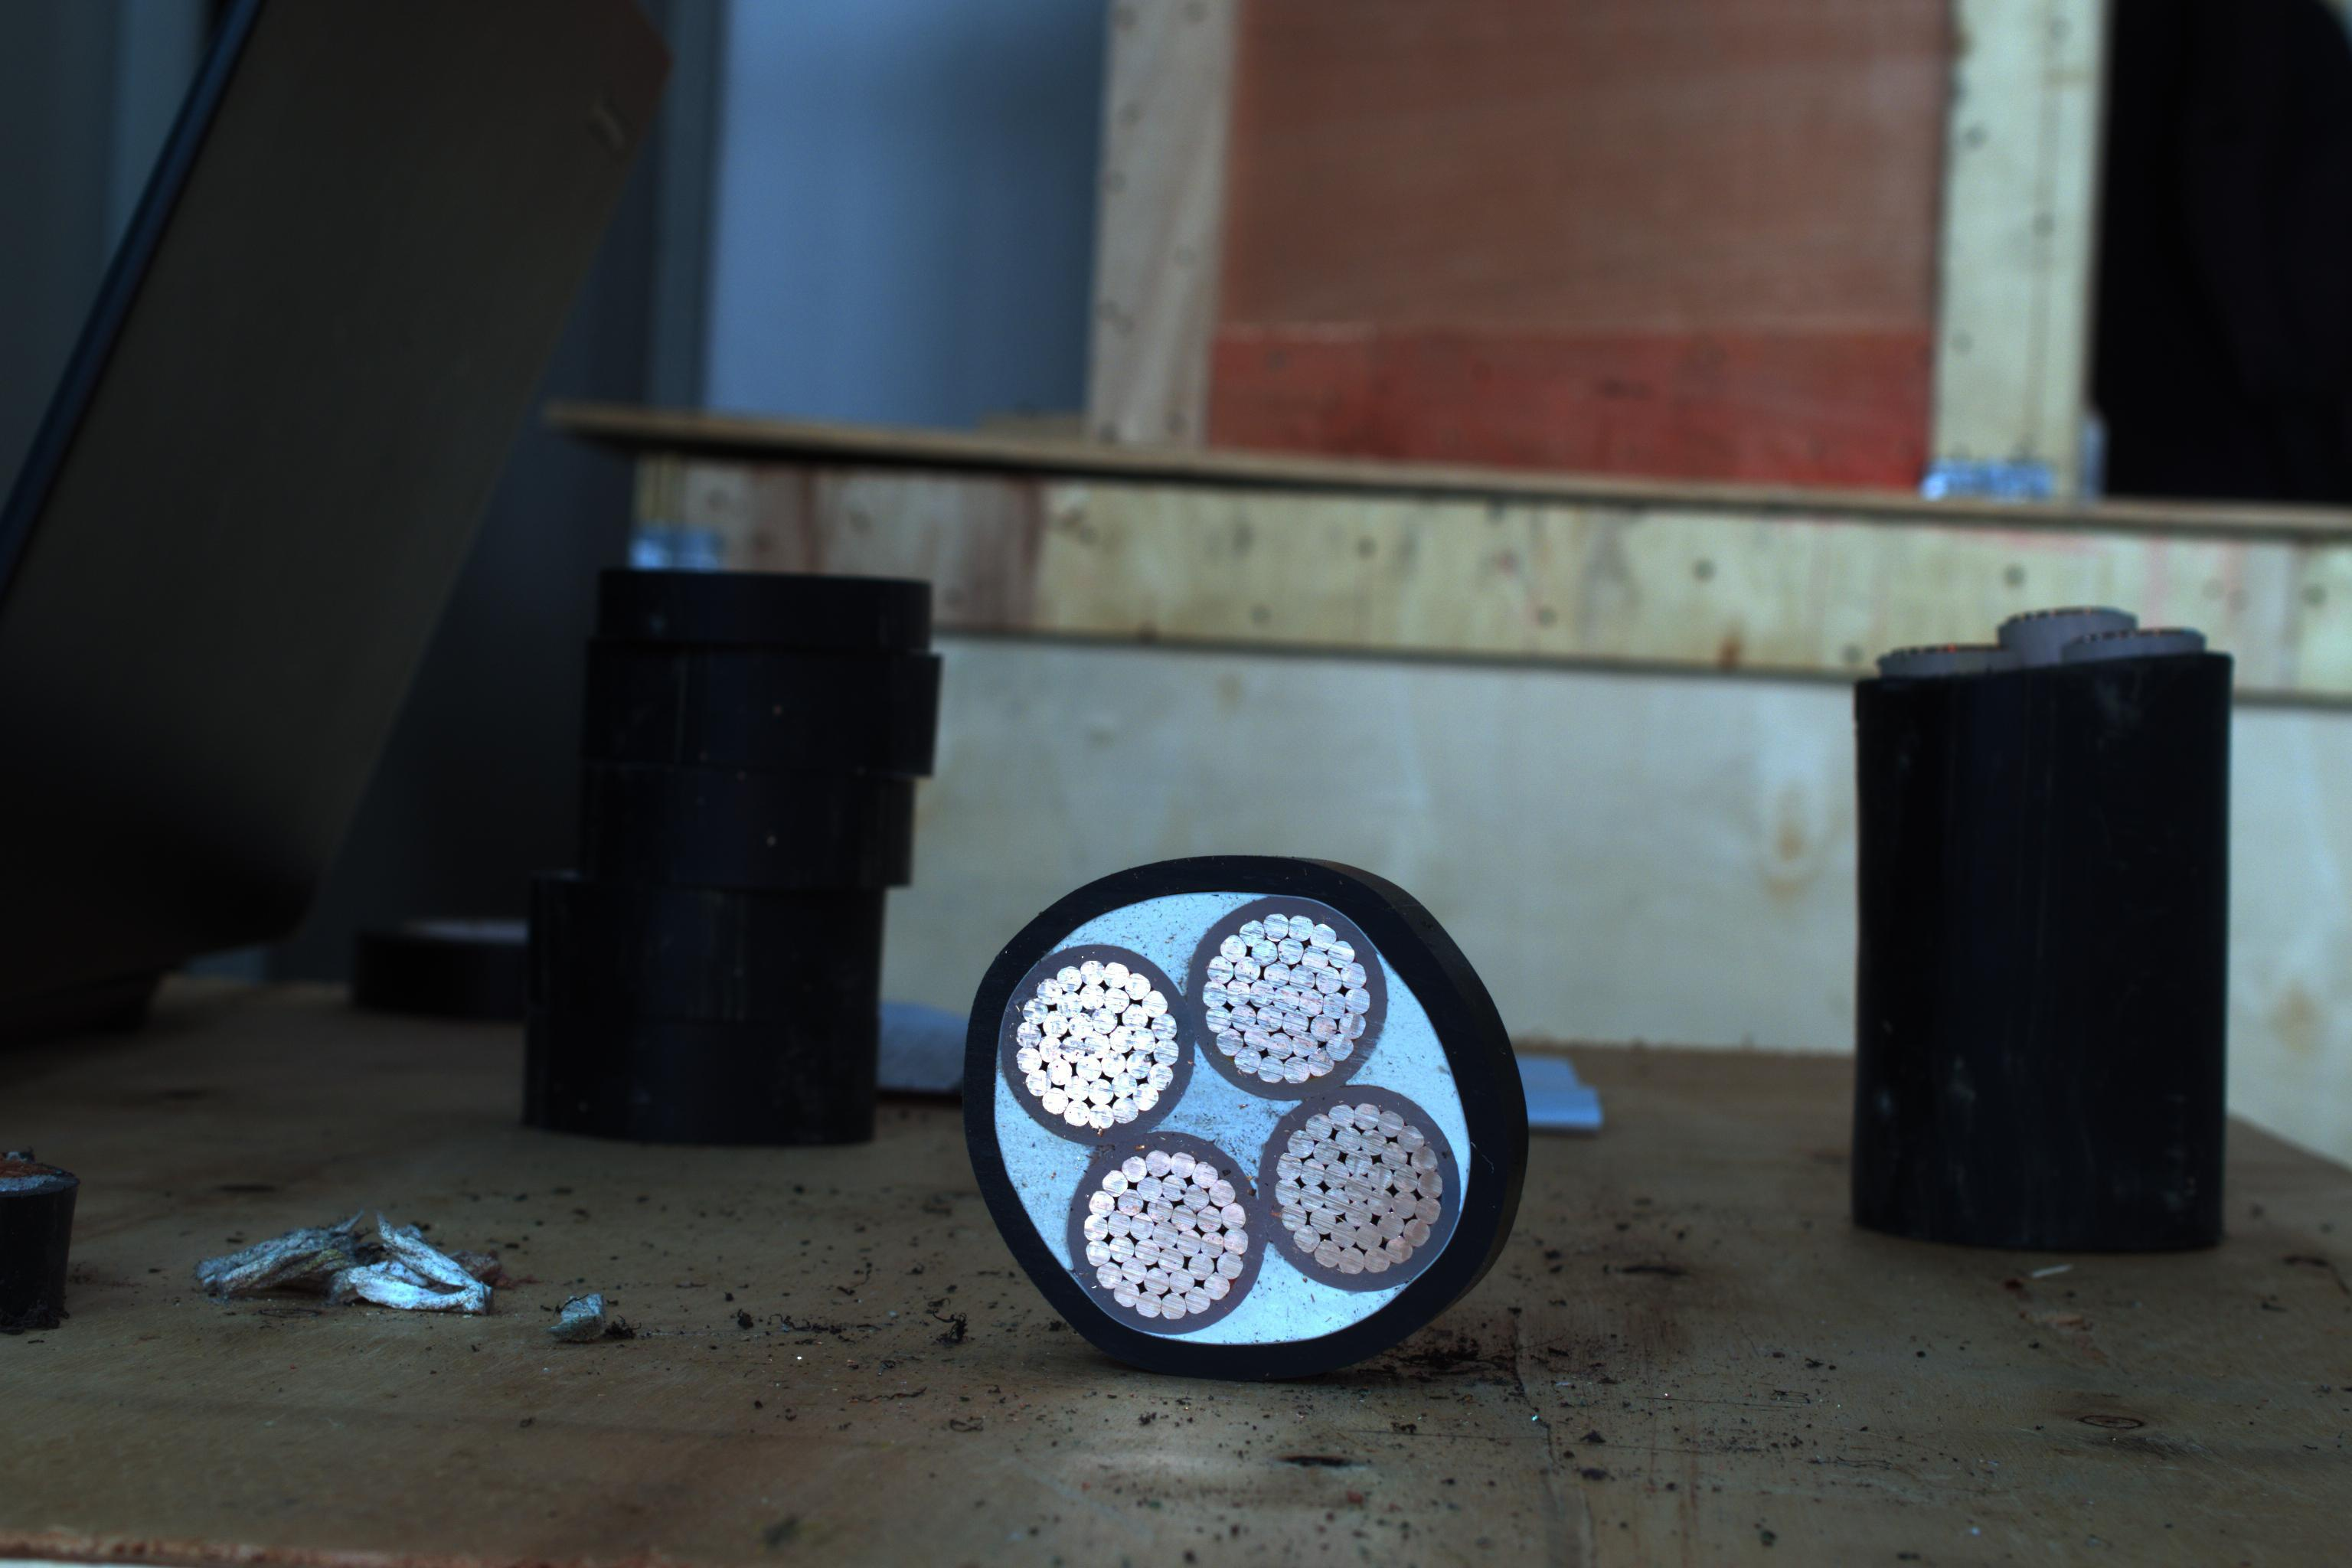YJV_0.6_1kV_4x240: (971, 863, 1486, 1370)
